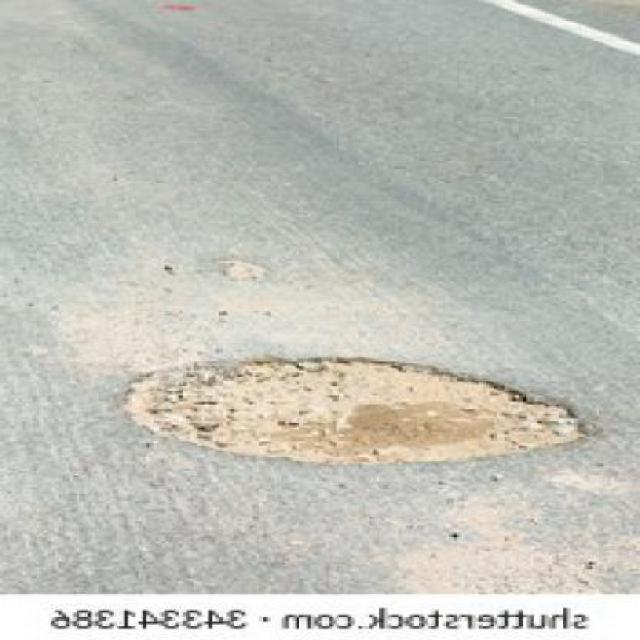pothole: (117, 357, 597, 465)
